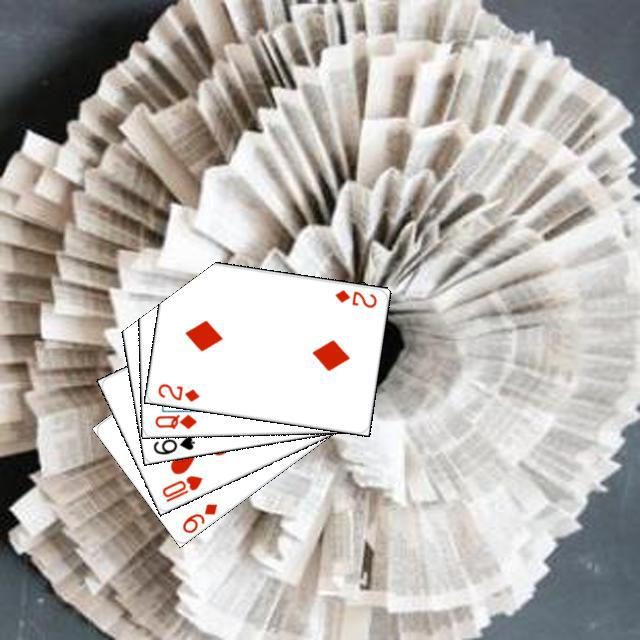10h: (157, 470, 204, 504)
2d: (153, 379, 201, 404), (330, 285, 378, 310)
6s: (148, 431, 196, 456)
9d: (177, 498, 219, 535)
Qd: (150, 409, 198, 431)
